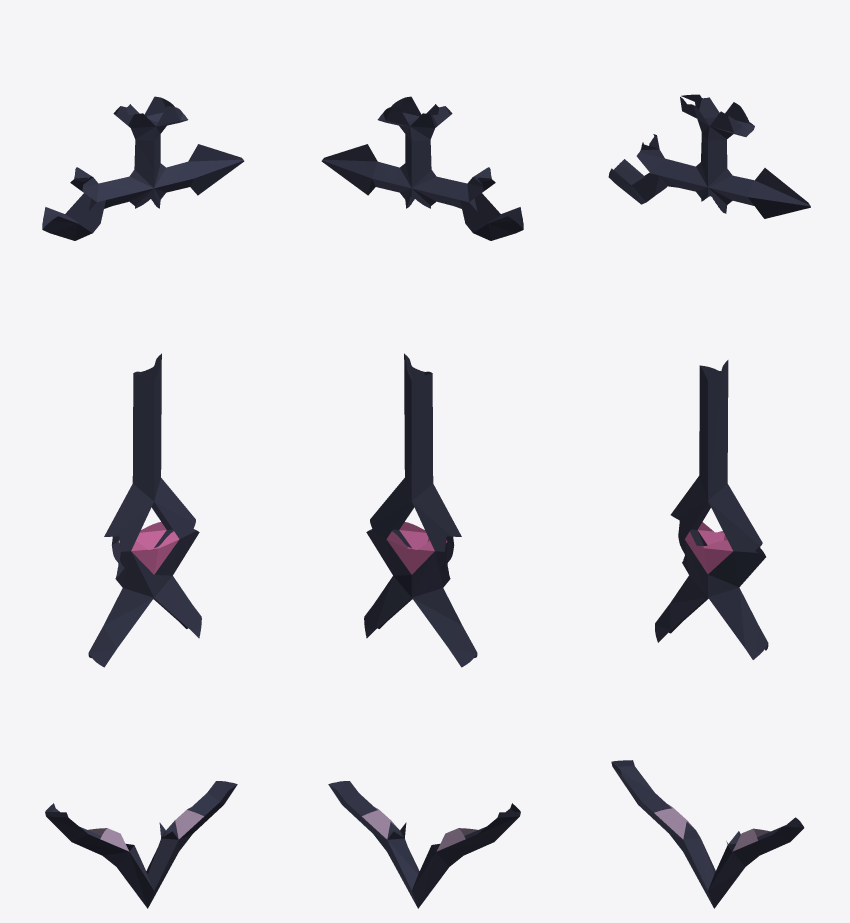
File: signofinnocence.obj
3 views of the same model, side by side, from view 1: azimuth 30°, elevation 25°; view 2: azimuth 150°, elevation 25°; view 3: azimuth 330°, elevation 25° (orthographic).
Size of the model in its own units: 69.07 by 232 by 12.
